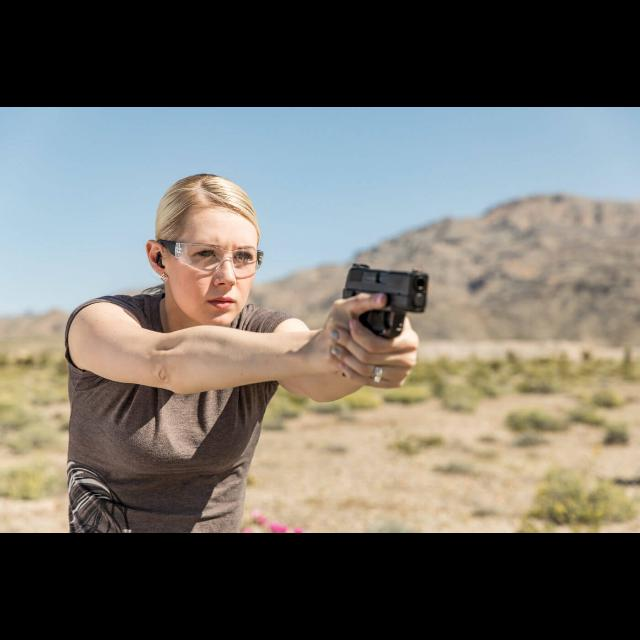handgun: (340, 260, 432, 340)
